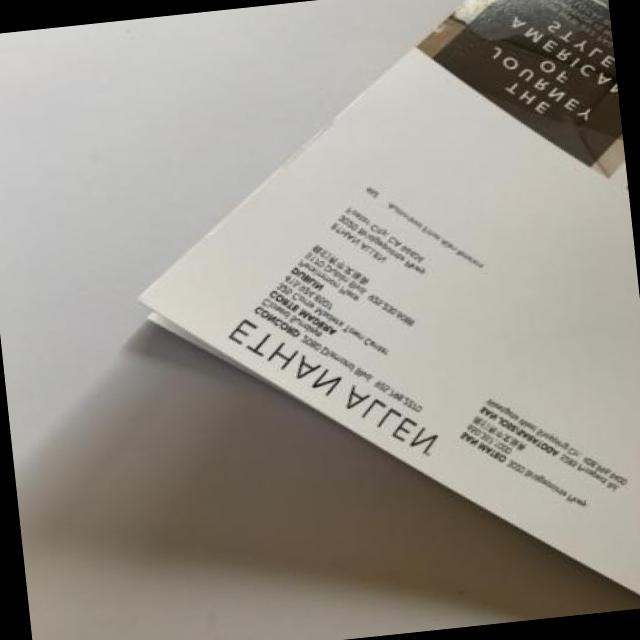paper: (147, 15, 640, 595)
